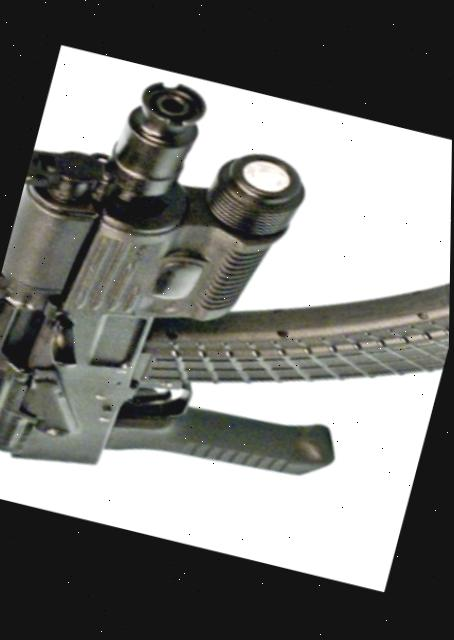rifle: (0, 49, 453, 553)
